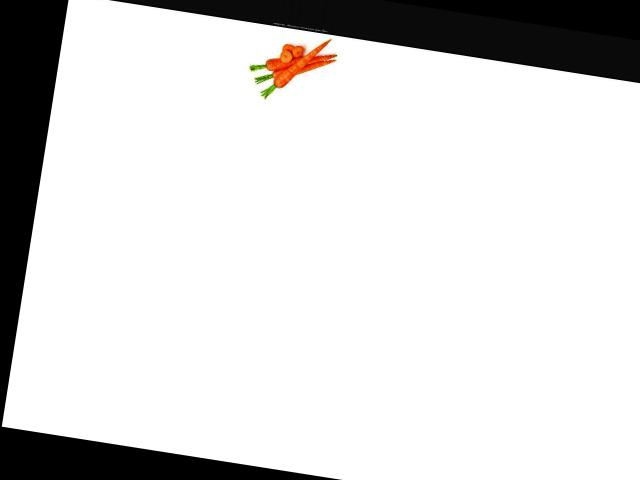carrot: (257, 46, 339, 89)
